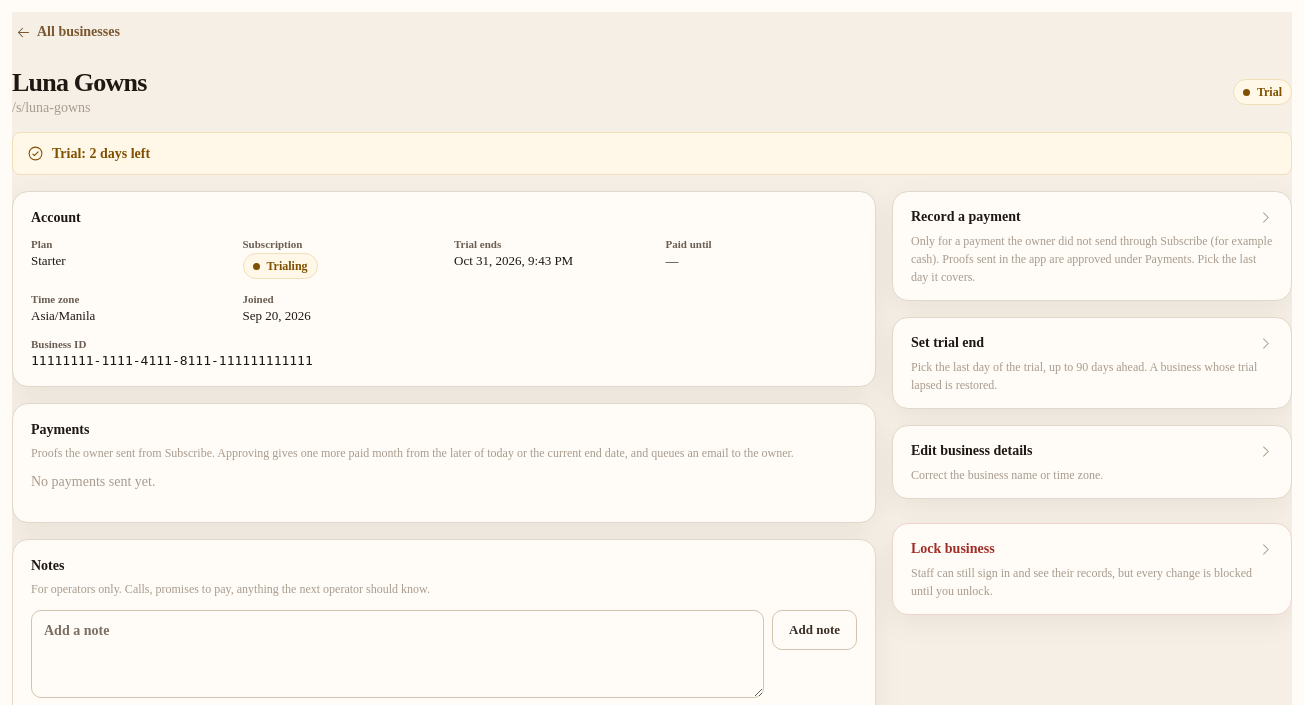
it: ClientsPanel › opens one action at a time and closes it on cancel
The width and height of the screenshot is (1304, 705).
Click the button "Record a payment". click: (966, 216)
box: x1=893 y1=192 x2=1291 y2=232
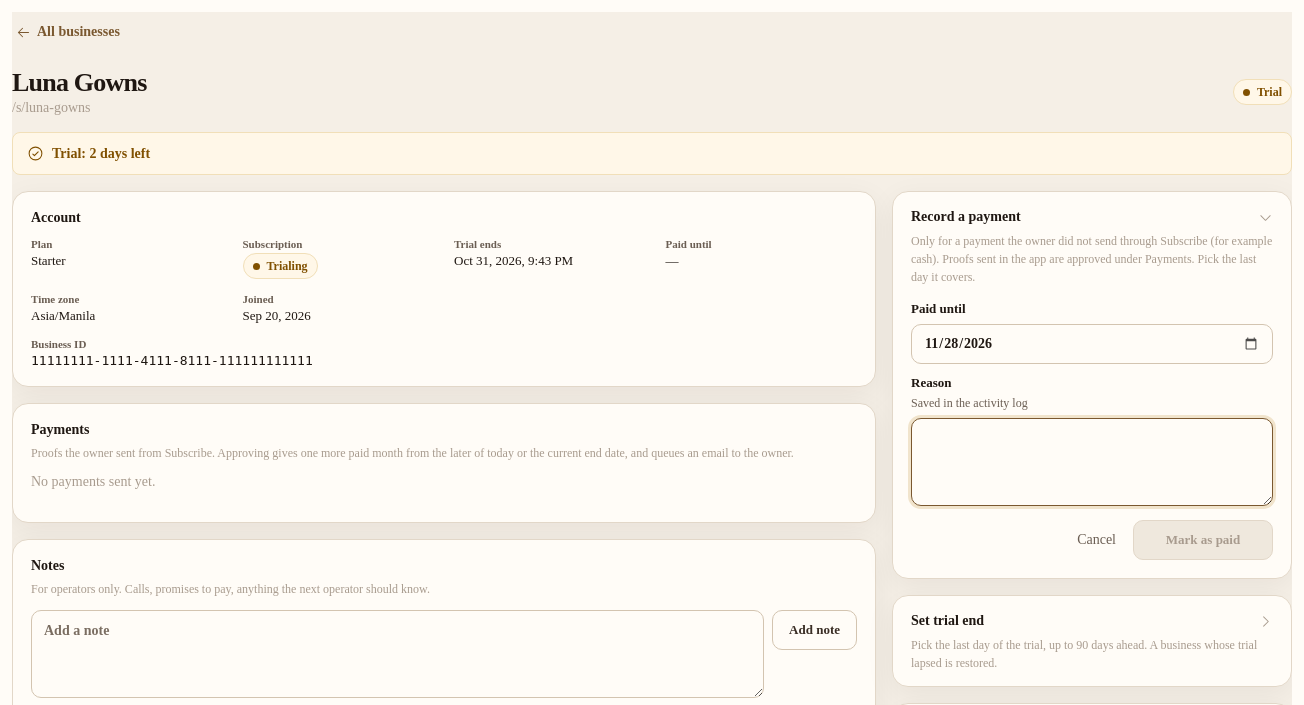
expect the date field labelled "Paid until" is shown: met, box x1=911 y1=324 x2=1273 y2=364
Click the button "Set trial end". click: (948, 621)
box: x1=893 y1=596 x2=1291 y2=636
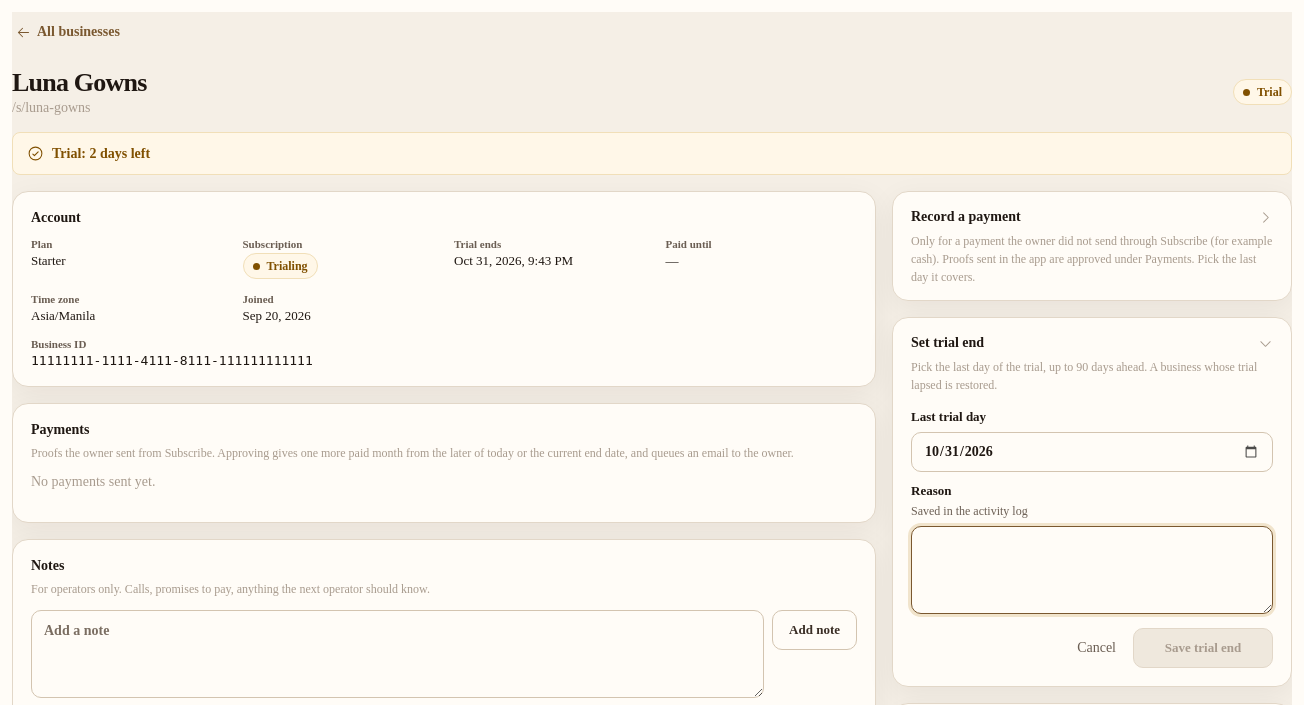
expect the date field labelled "Last trial day" is shown: met, box x1=911 y1=432 x2=1273 y2=472
Click the button "Cancel". click: (1097, 648)
box: x1=1068 y1=628 x2=1125 y2=668
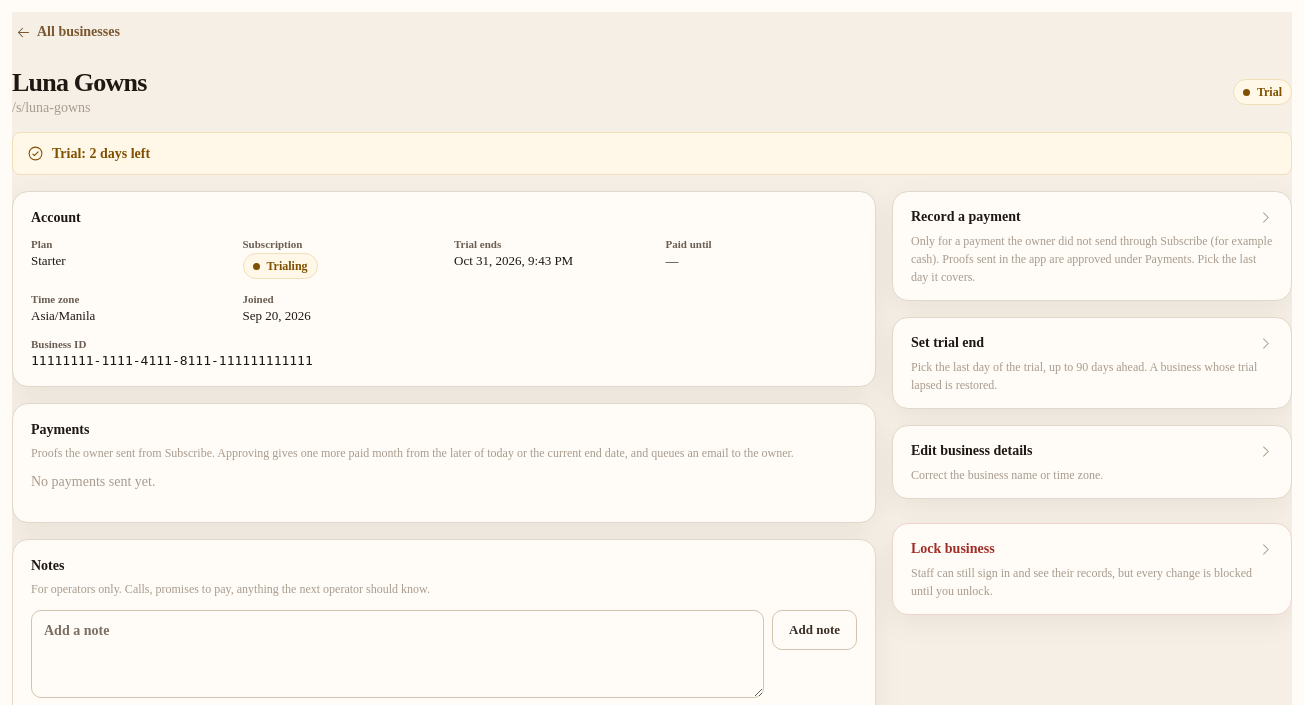
expect the label labelled "Last trial day" is gone: met
